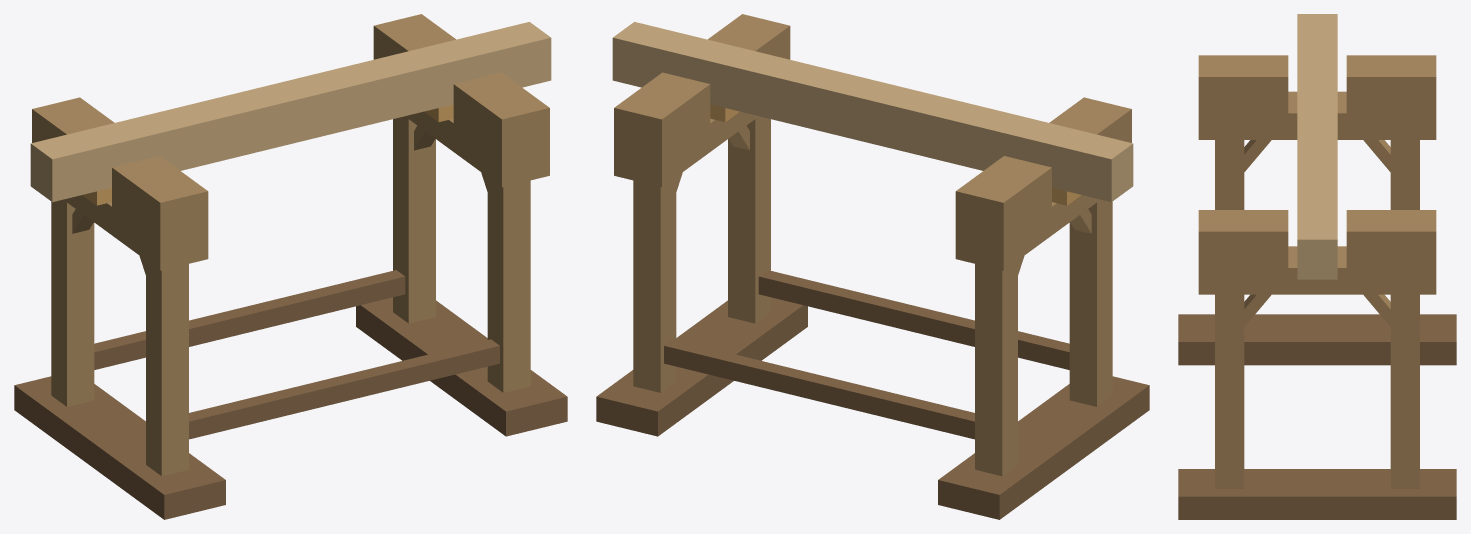
The picture shows the model from 3 angles, left to right: view 1: azimuth 30°, elevation 25°; view 2: azimuth 150°, elevation 25°; view 3: azimuth 270°, elevation 25°; orthographic projection. The views are drawn at different scales.
Parts seen in each view (by area): view 1: WholeLongitudinalNeedleBeam, WholeUNotchedCrosshead0, WholeUNotchedCrosshead1, CompleteTransverseGroundSole0, CompleteTransverseGroundSole1, WholeVerticalTrestlePost0_0, WholeVerticalTrestlePost1_0, CompleteLowLongitudinalTie0, WholeVerticalTrestlePost0_1, WholeVerticalTrestlePost1_1, CompleteLowLongitudinalTie1; view 2: WholeLongitudinalNeedleBeam, WholeUNotchedCrosshead0, WholeUNotchedCrosshead1, CompleteTransverseGroundSole0, CompleteTransverseGroundSole1, WholeVerticalTrestlePost0_1, WholeVerticalTrestlePost1_1, CompleteLowLongitudinalTie1, WholeVerticalTrestlePost0_0, WholeVerticalTrestlePost1_0, CompleteLowLongitudinalTie0; view 3: WholeUNotchedCrosshead1, WholeUNotchedCrosshead0, CompleteTransverseGroundSole1, CompleteTransverseGroundSole0, WholeLongitudinalNeedleBeam, WholeVerticalTrestlePost1_0, WholeVerticalTrestlePost1_1, WholeVerticalTrestlePost0_0, WholeVerticalTrestlePost0_1, WholePortalKneeBrace1_0, WholePortalKneeBrace1_1, WholePortalKneeBrace0_0 (+1 smaller).
Boxes of the visible parts, left/top/right/bottom form: WholeLongitudinalNeedleBeam: left=30, top=22, right=551, bottom=202; WholeUNotchedCrosshead0: left=32, top=97, right=208, bottom=270; WholeUNotchedCrosshead1: left=373, top=14, right=549, bottom=187; CompleteTransverseGroundSole0: left=14, top=376, right=225, bottom=519; CompleteTransverseGroundSole1: left=356, top=297, right=567, bottom=436; WholeVerticalTrestlePost0_0: left=146, top=260, right=188, bottom=476; WholeVerticalTrestlePost1_0: left=487, top=177, right=530, bottom=392; CompleteLowLongitudinalTie0: left=189, top=339, right=499, bottom=439; WholeVerticalTrestlePost0_1: left=51, top=199, right=94, bottom=406; WholeVerticalTrestlePost1_1: left=393, top=116, right=435, bottom=323; CompleteLowLongitudinalTie1: left=94, top=270, right=405, bottom=369; WholeLongitudinalNeedleBeam: left=612, top=22, right=1133, bottom=202; WholeUNotchedCrosshead0: left=955, top=97, right=1131, bottom=270; WholeUNotchedCrosshead1: left=614, top=14, right=790, bottom=187; CompleteTransverseGroundSole0: left=938, top=376, right=1149, bottom=519; CompleteTransverseGroundSole1: left=596, top=297, right=807, bottom=436; WholeVerticalTrestlePost0_1: left=975, top=260, right=1017, bottom=476; WholeVerticalTrestlePost1_1: left=633, top=177, right=676, bottom=392; CompleteLowLongitudinalTie1: left=664, top=339, right=974, bottom=439; WholeVerticalTrestlePost0_0: left=1069, top=199, right=1112, bottom=406; WholeVerticalTrestlePost1_0: left=728, top=116, right=770, bottom=323; CompleteLowLongitudinalTie0: left=758, top=270, right=1069, bottom=369; WholeUNotchedCrosshead1: left=1198, top=210, right=1436, bottom=294; WholeUNotchedCrosshead0: left=1198, top=55, right=1436, bottom=139; CompleteTransverseGroundSole1: left=1178, top=469, right=1456, bottom=519; CompleteTransverseGroundSole0: left=1178, top=314, right=1456, bottom=365; WholeLongitudinalNeedleBeam: left=1297, top=14, right=1337, bottom=279; WholeVerticalTrestlePost1_0: left=1215, top=294, right=1244, bottom=488; WholeVerticalTrestlePost1_1: left=1390, top=294, right=1419, bottom=488; WholeVerticalTrestlePost0_0: left=1215, top=140, right=1244, bottom=209; WholeVerticalTrestlePost0_1: left=1390, top=140, right=1419, bottom=209; WholePortalKneeBrace1_0: left=1244, top=294, right=1271, bottom=326; WholePortalKneeBrace1_1: left=1363, top=294, right=1390, bottom=326; WholePortalKneeBrace0_0: left=1244, top=140, right=1271, bottom=171.
Size of the model in its own units: 2.92 by 1.82 by 1.52.
